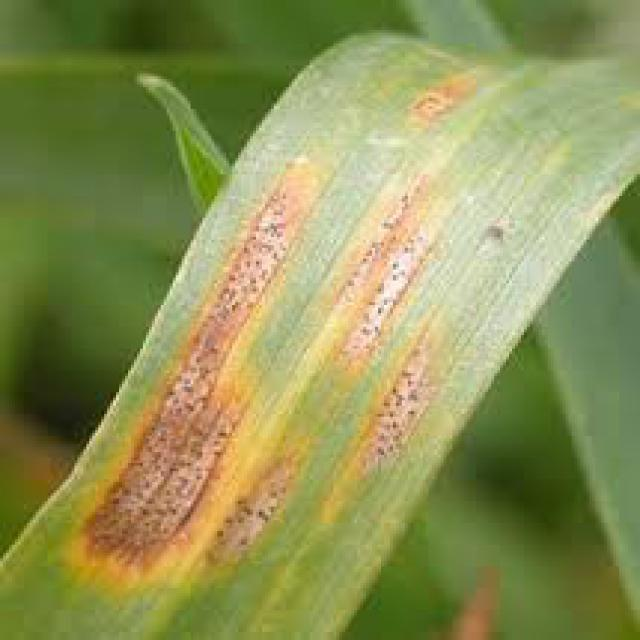wheat-septoria: (80, 157, 303, 579), (332, 171, 437, 357), (340, 310, 445, 474), (210, 439, 304, 563), (408, 69, 479, 122)
